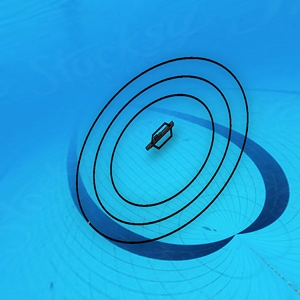circle: (77, 57, 247, 244)
submarine: (145, 116, 173, 155)
